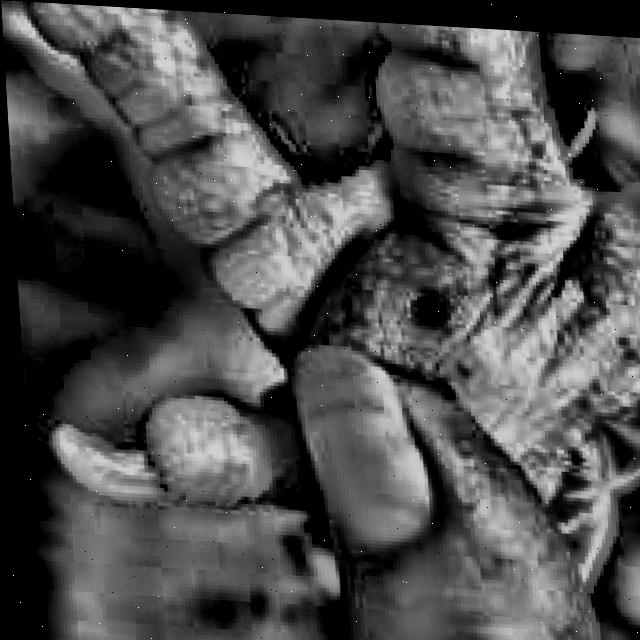Bumble foot: (0, 0, 640, 601)
